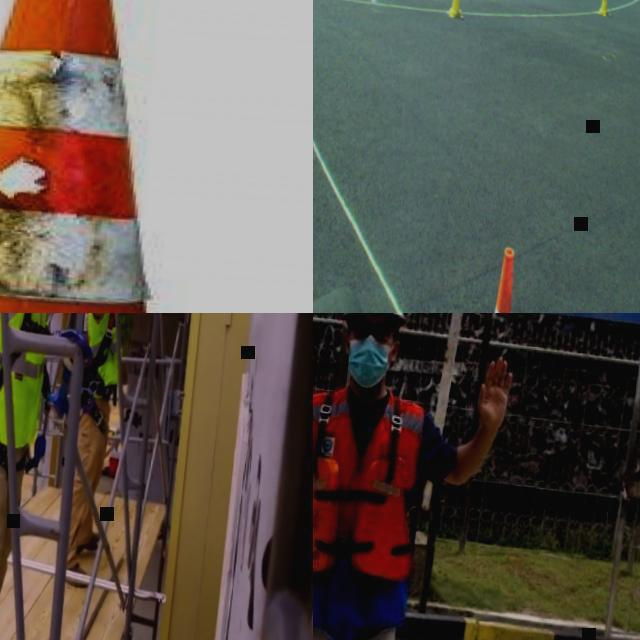mask: (343, 334, 394, 393)
person: (313, 313, 532, 640), (0, 313, 131, 640), (60, 313, 146, 589)
safety_cone: (0, 0, 313, 313), (486, 250, 519, 313), (446, 0, 466, 19), (597, 0, 612, 17)
vest: (313, 382, 427, 587), (0, 313, 53, 449), (79, 313, 128, 397)
